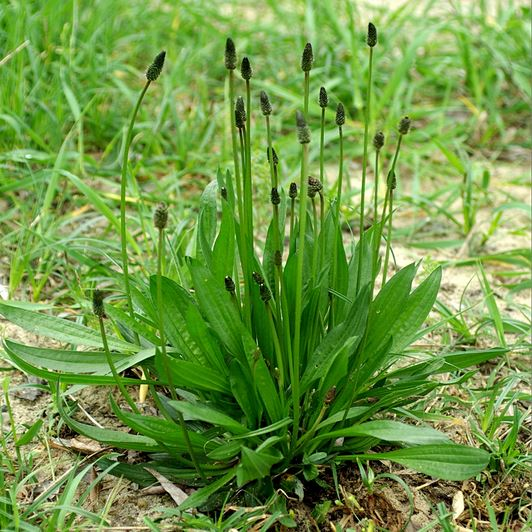buckhorn plantain: (70, 17, 473, 467)
